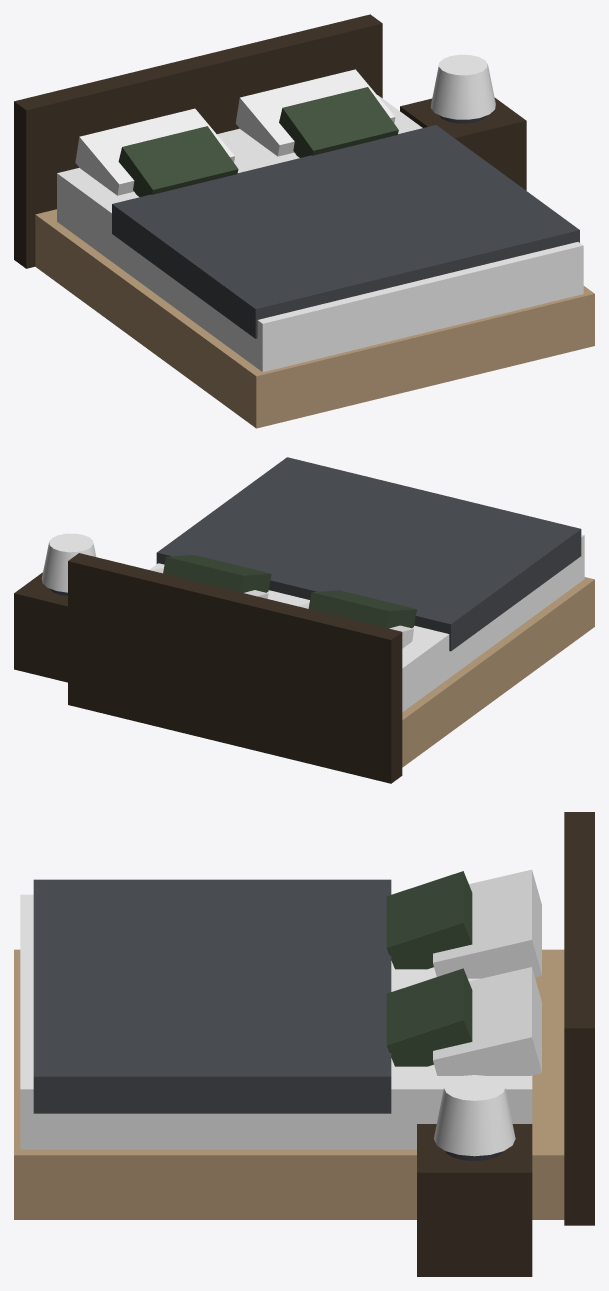
The model's file is archviz_bed_double_linen.glb.
The picture shows the model from 3 angles, top to bottom: view 1: azimuth 30°, elevation 25°; view 2: azimuth 150°, elevation 25°; view 3: azimuth 270°, elevation 25°; orthographic projection. The views are drawn at different scales.
Bounding box in the file's own units: 2.47 × 0.85 × 2.27.
